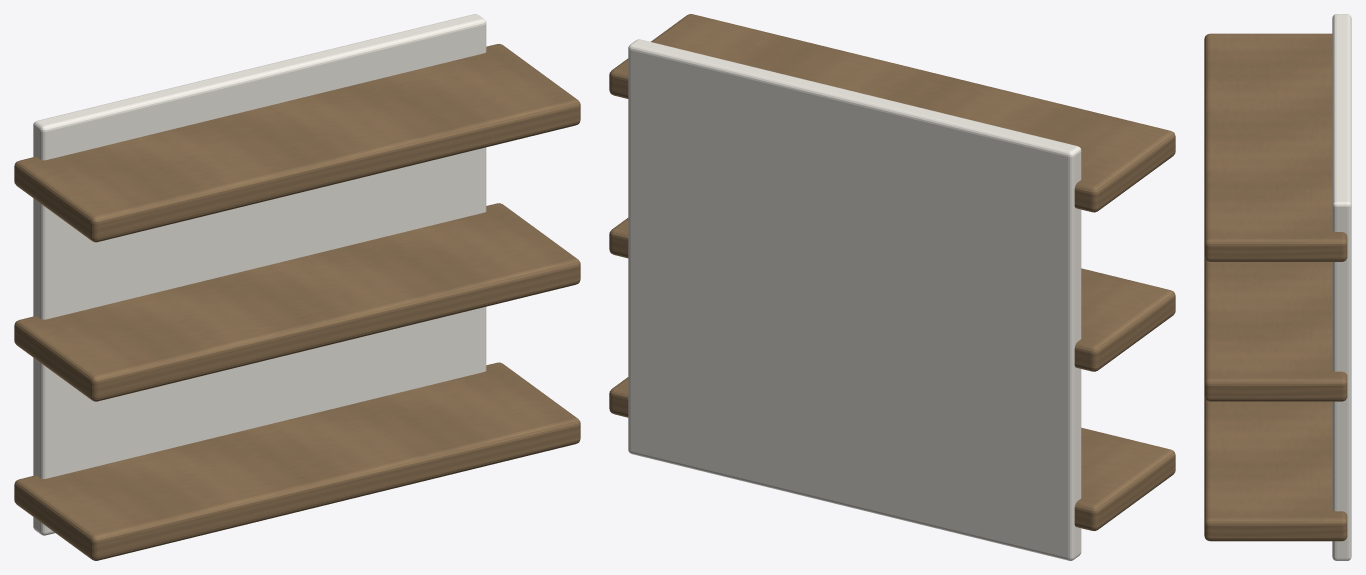
The model's file is floating-shelf.glb.
The picture shows the model from 3 angles, left to right: view 1: azimuth 30°, elevation 25°; view 2: azimuth 150°, elevation 25°; view 3: azimuth 270°, elevation 25°; orthographic projection. The views are drawn at different scales.
Parts seen in each view (by area): view 1: CANONICAL wall rail, CANONICAL shelf 1, CANONICAL shelf 2, CANONICAL shelf 3; view 2: CANONICAL wall rail, CANONICAL shelf 3, CANONICAL shelf 2, CANONICAL shelf 1; view 3: CANONICAL shelf 3, CANONICAL shelf 1, CANONICAL shelf 2, CANONICAL wall rail.
Boxes of the visible parts, x1,y1,x2,y2 form: CANONICAL wall rail: (33, 14, 486, 535); CANONICAL shelf 1: (14, 362, 580, 560); CANONICAL shelf 2: (14, 203, 580, 401); CANONICAL shelf 3: (14, 44, 580, 242); CANONICAL wall rail: (628, 39, 1081, 560); CANONICAL shelf 3: (609, 14, 1175, 212); CANONICAL shelf 2: (609, 218, 1175, 371); CANONICAL shelf 1: (609, 377, 1175, 530); CANONICAL shelf 3: (1204, 33, 1347, 261); CANONICAL shelf 1: (1204, 397, 1347, 541); CANONICAL shelf 2: (1204, 257, 1347, 401); CANONICAL wall rail: (1332, 14, 1351, 560).
Size of the model in its own units: 0.9 by 0.72 by 0.2675.
2 materials, 1 textured.
